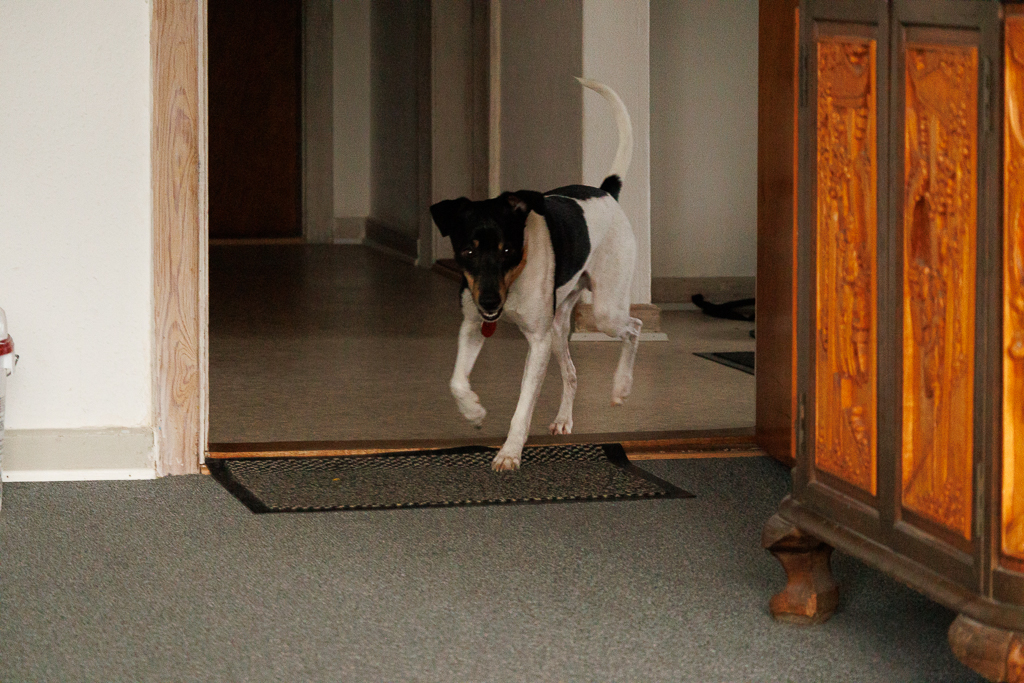Dog: (411, 67, 666, 483)
